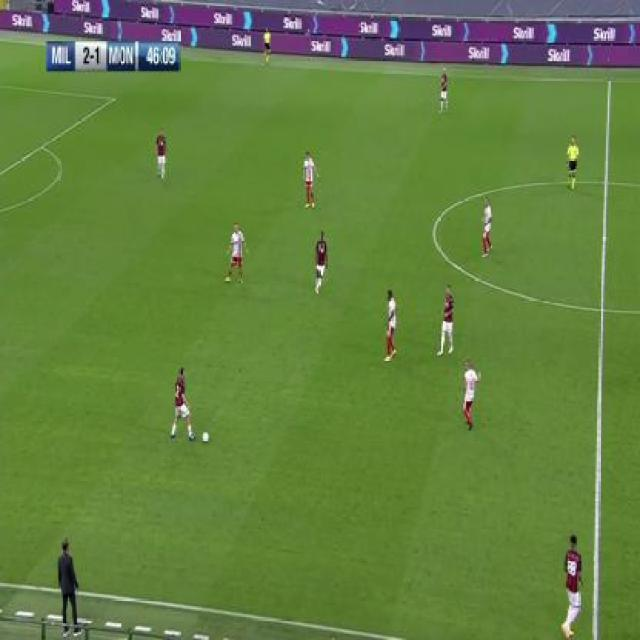ball: (201, 428, 210, 445)
player: (560, 532, 585, 637), (58, 536, 81, 633), (169, 365, 197, 441), (223, 220, 248, 286), (436, 282, 456, 358), (460, 357, 479, 431), (383, 288, 399, 364), (312, 228, 329, 297), (302, 148, 319, 211), (565, 133, 581, 192), (480, 195, 494, 260), (155, 127, 168, 183), (437, 65, 450, 116), (262, 22, 273, 67)
